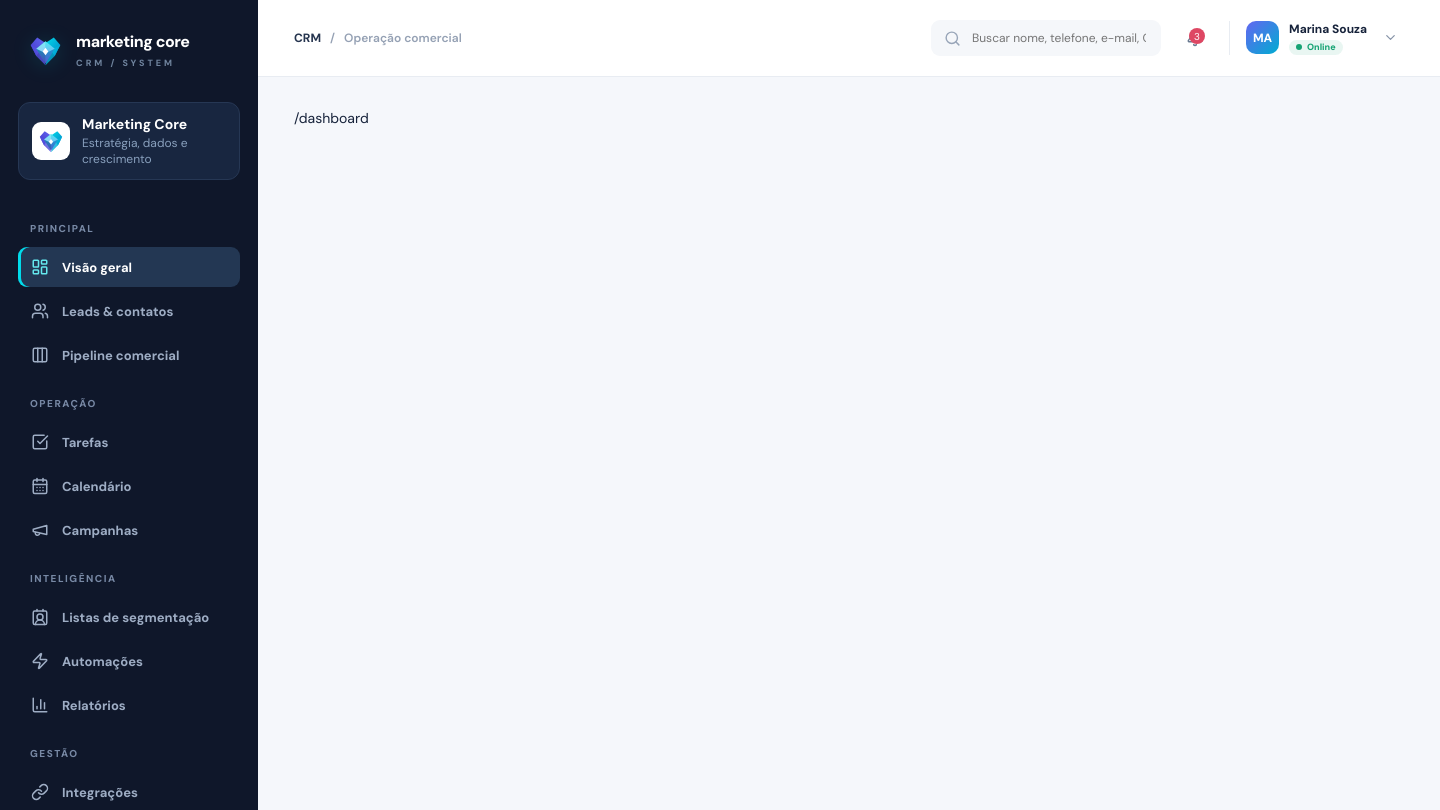
AppShell › oferece perfil ao funcionário sem expor configurações gerais
Step 1. Click the button named "Menu do usuário" → (1390, 38), box x1=1377 y1=24 x2=1404 y2=52
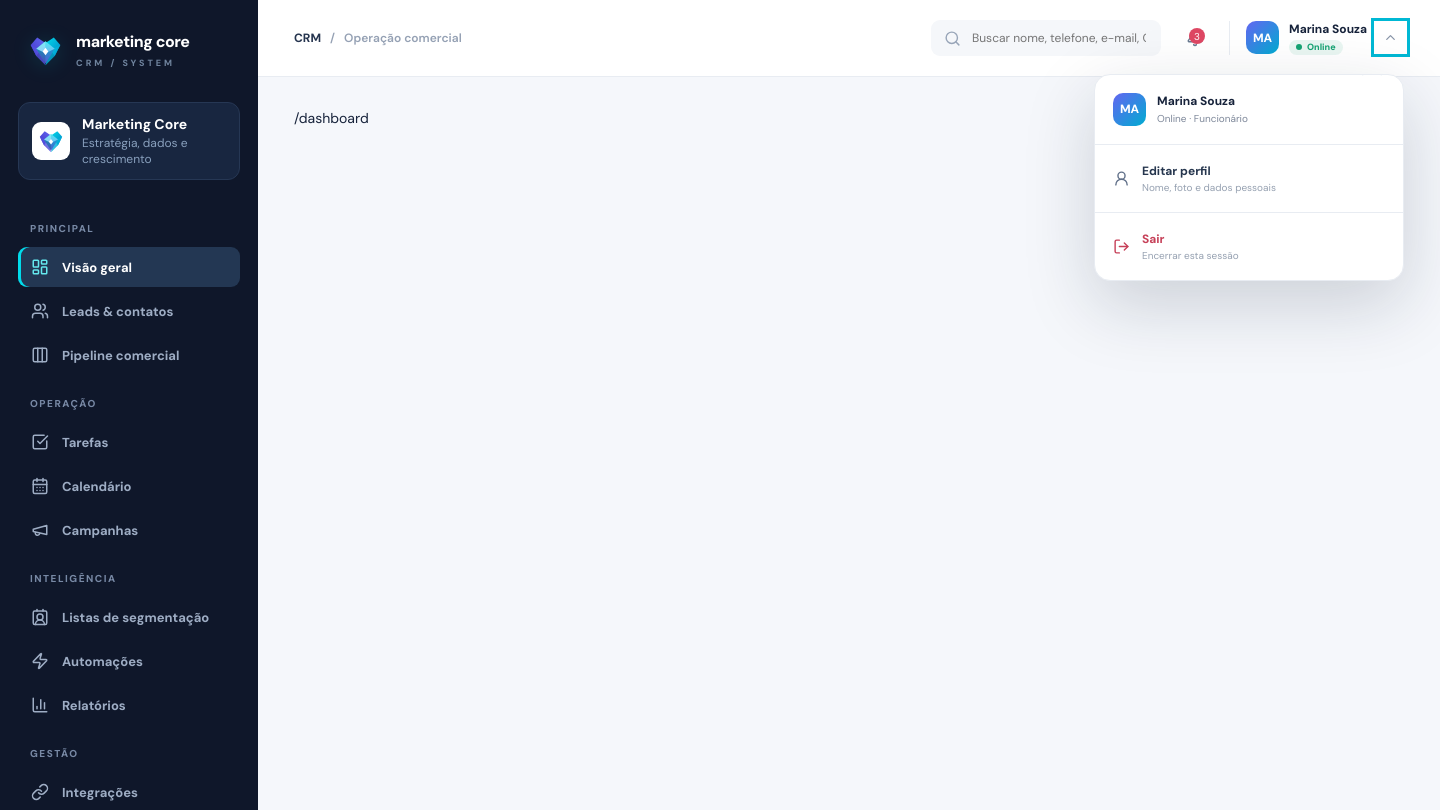
Expected: the menu item "Editar perfil Nome, foto e dados pessoais" is shown
Step 2. Click the menu item "Editar perfil Nome, foto e dados pessoais" → (1249, 178), box x1=1102 y1=152 x2=1396 y2=204
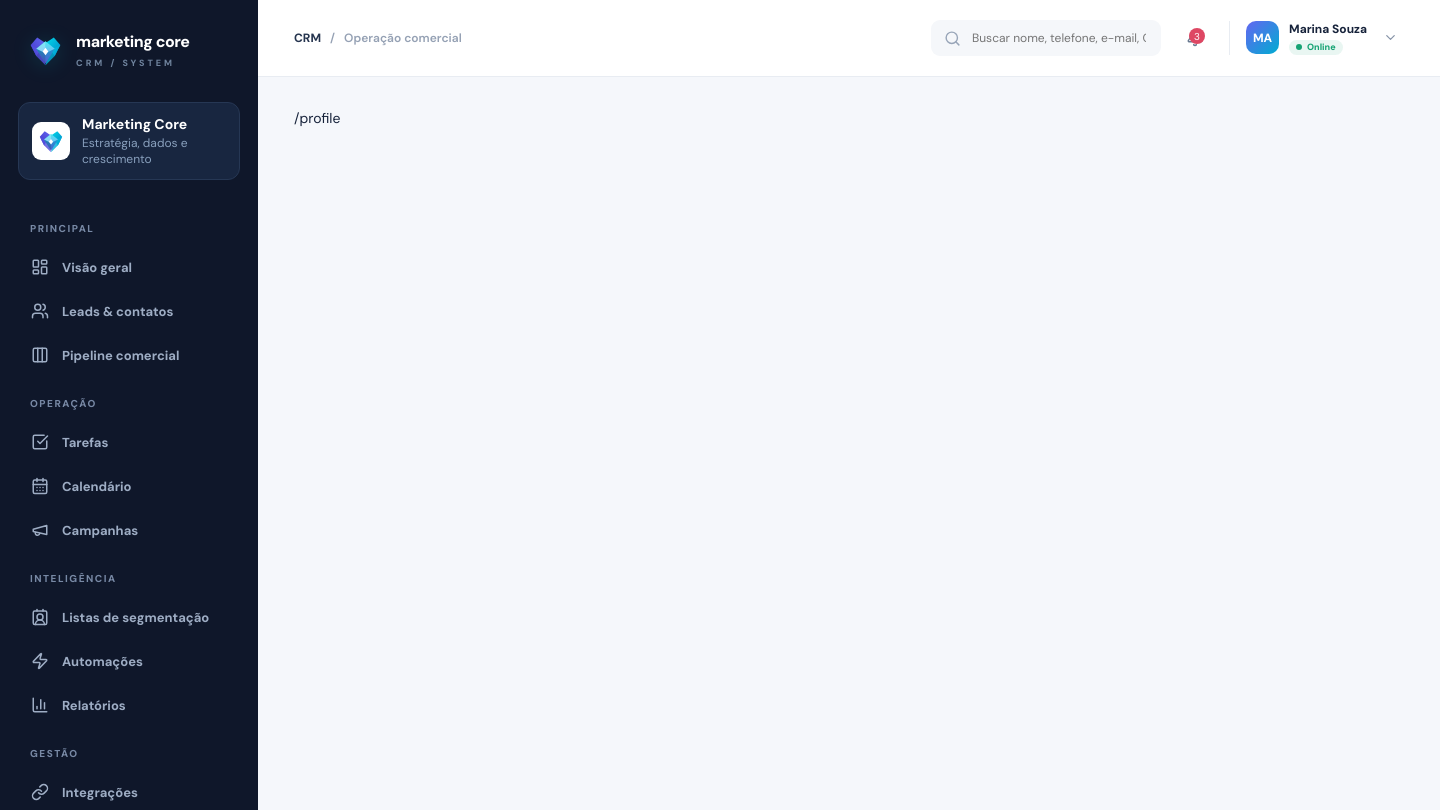
Expected: the text with test id "current-location" reads "/profile", x1=294 y1=109 x2=340 y2=127
